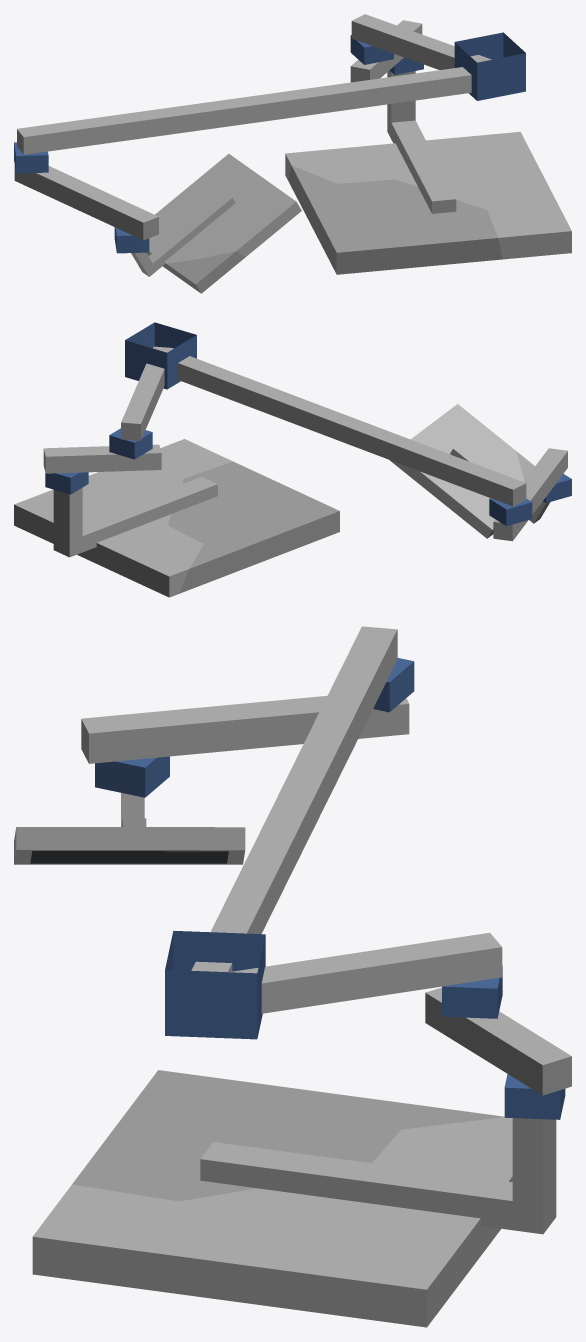
Rendered from AI_Prop_Surgery_Lights.fbx.
The picture shows the model from 3 angles, top to bottom: view 1: azimuth 30°, elevation 25°; view 2: azimuth 150°, elevation 25°; view 3: azimuth 270°, elevation 25°; orthographic projection. The views are drawn at different scales.
Parts seen in each view (by area): view 1: AI_Prop_Surgery_Lights; view 2: AI_Prop_Surgery_Lights; view 3: AI_Prop_Surgery_Lights.
Part boxes in pixels (x1,y1,x2,y2): AI_Prop_Surgery_Lights: [14, 14, 571, 293]; AI_Prop_Surgery_Lights: [14, 322, 571, 597]; AI_Prop_Surgery_Lights: [14, 626, 571, 1327].
Bounding box in the file's own units: 4.08 × 1.3 × 2.19.
